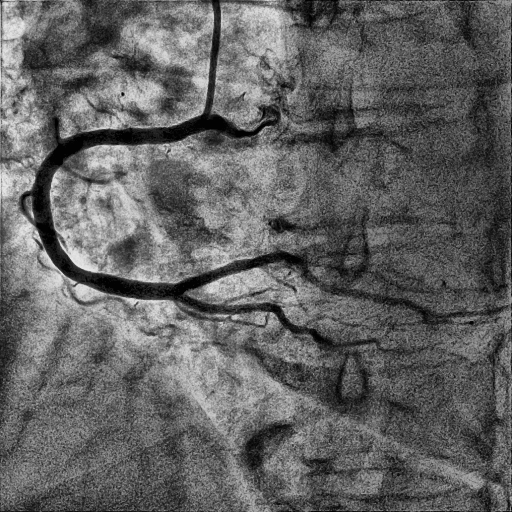pborca: (179, 251, 420, 312)
pda: (178, 294, 476, 369)
rca: (33, 114, 208, 301)
